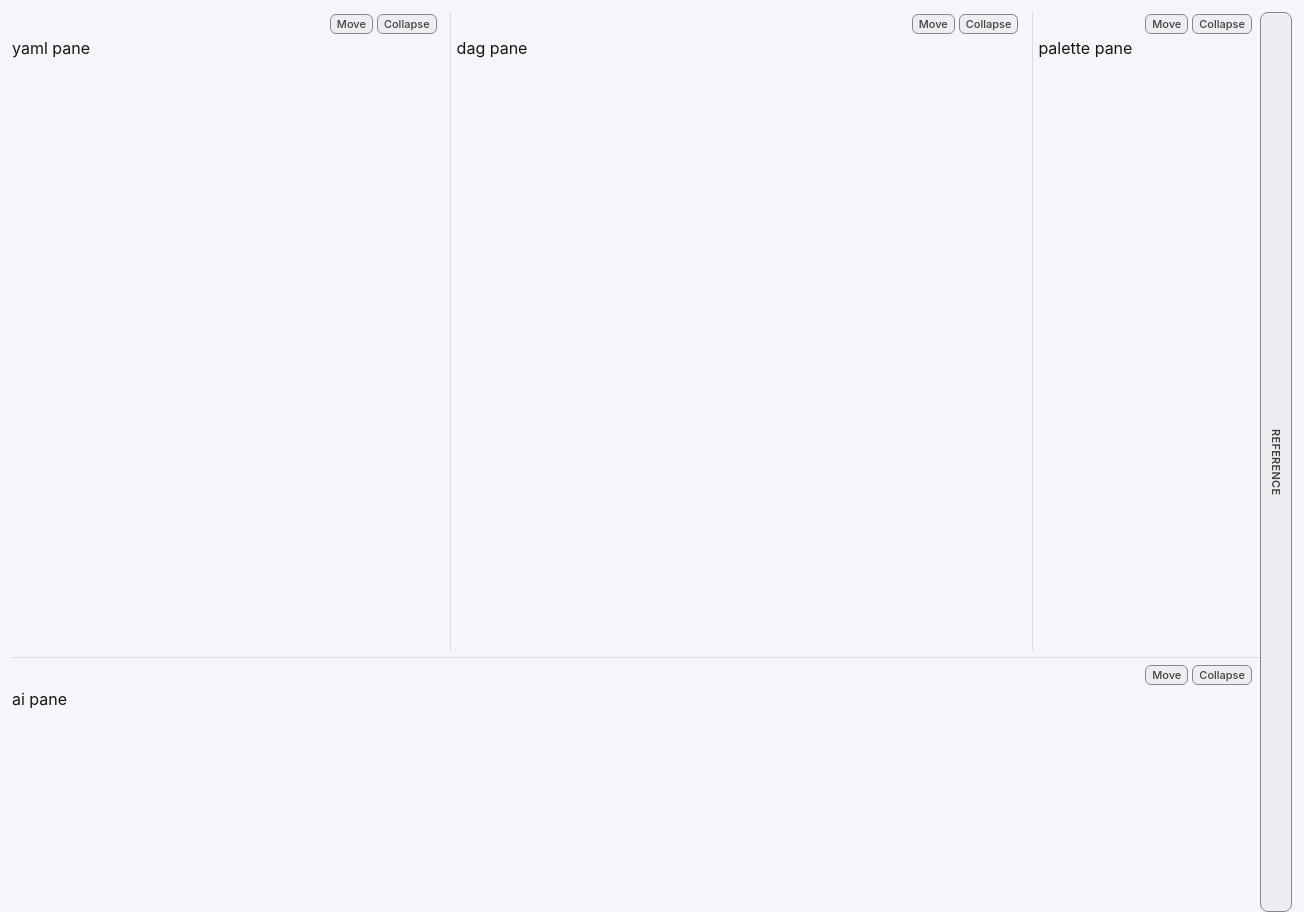
LayoutRoot › pane rearrangement (issue #121) › closes the Move menu on Escape without performing an action
Click the 2nd button "Move".
click(933, 24)  # box [912,14,955,34]
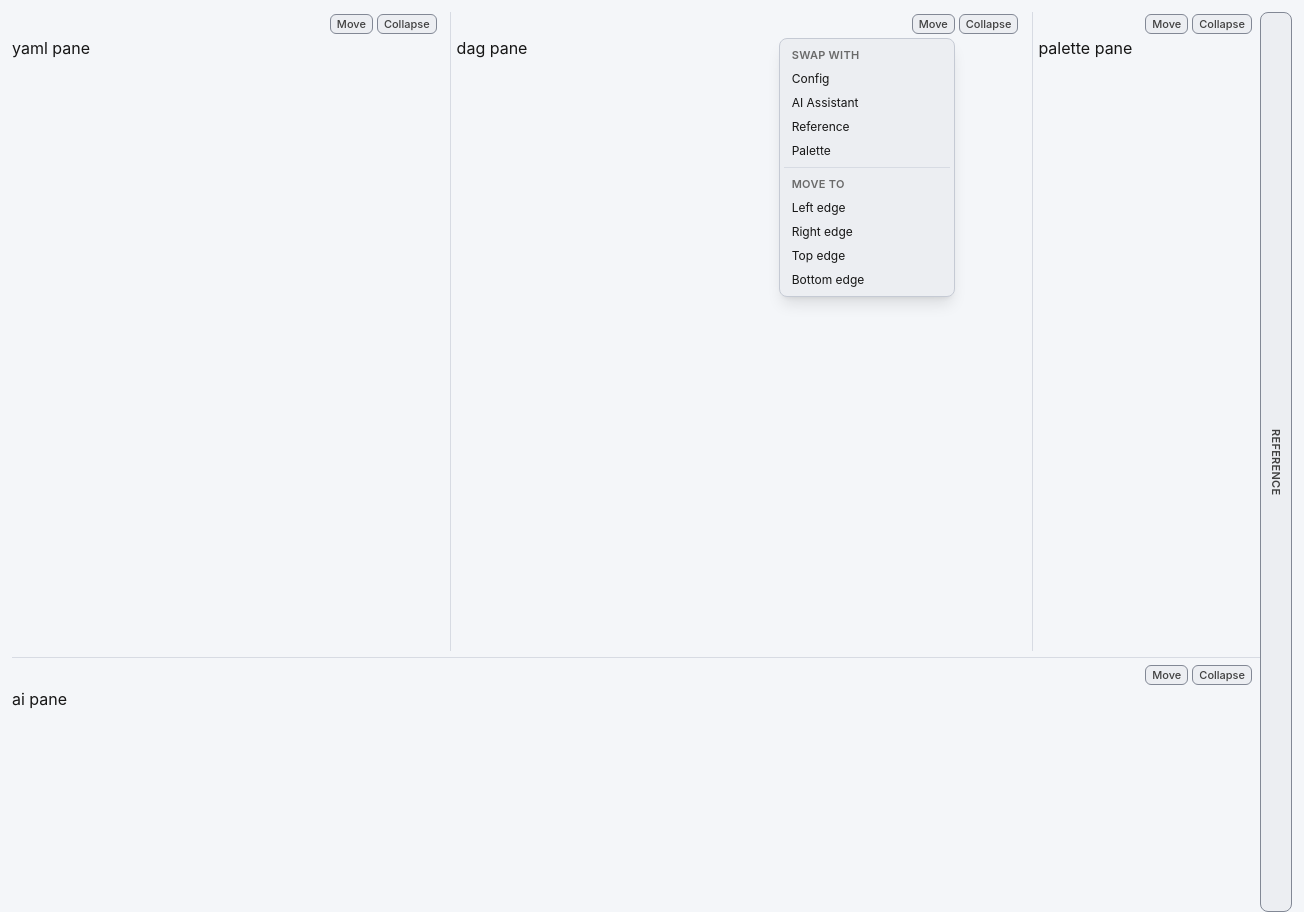
Expected: the menu is shown, [779,38,955,297]
Press Escape
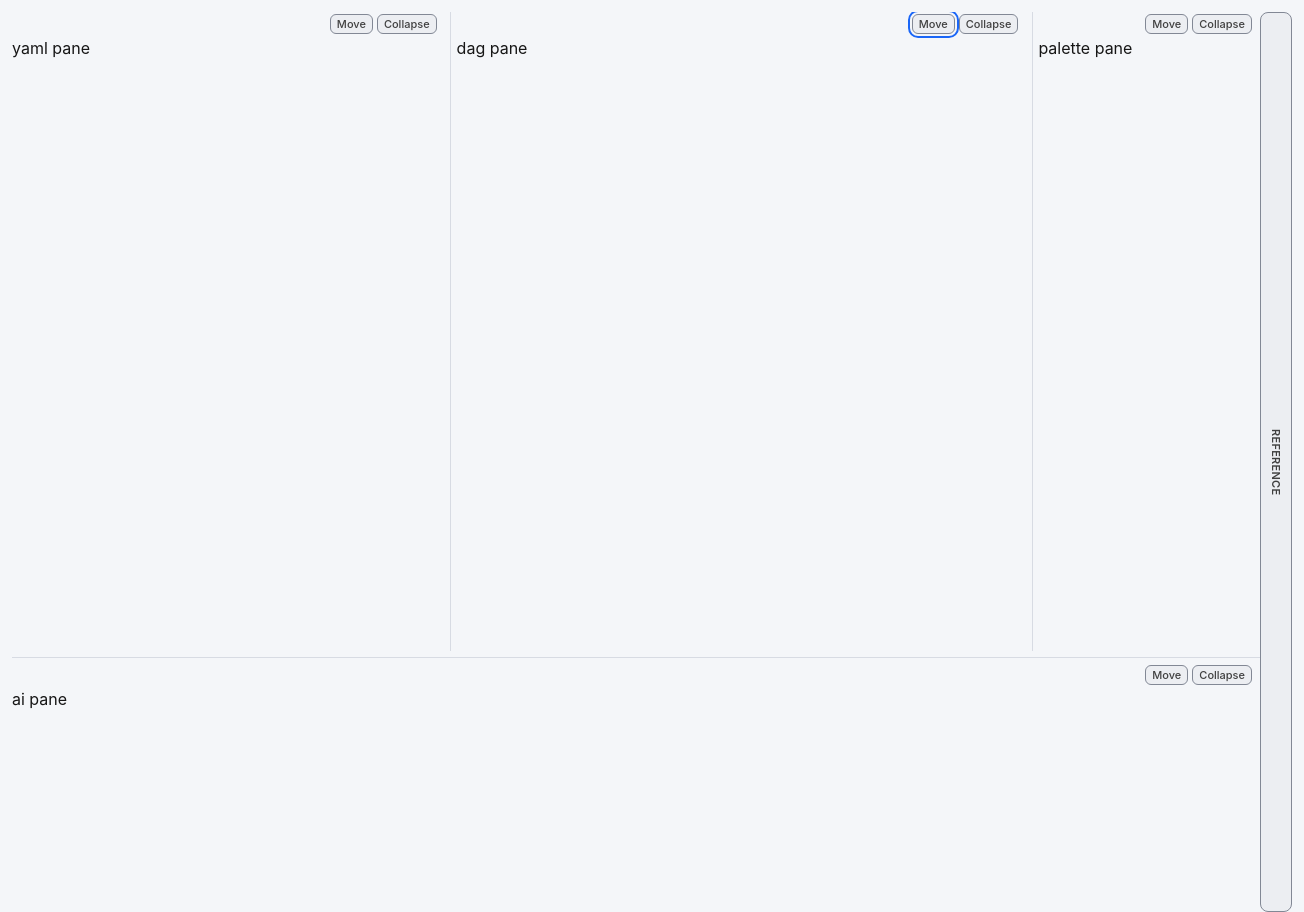
Expected: the menu is gone
